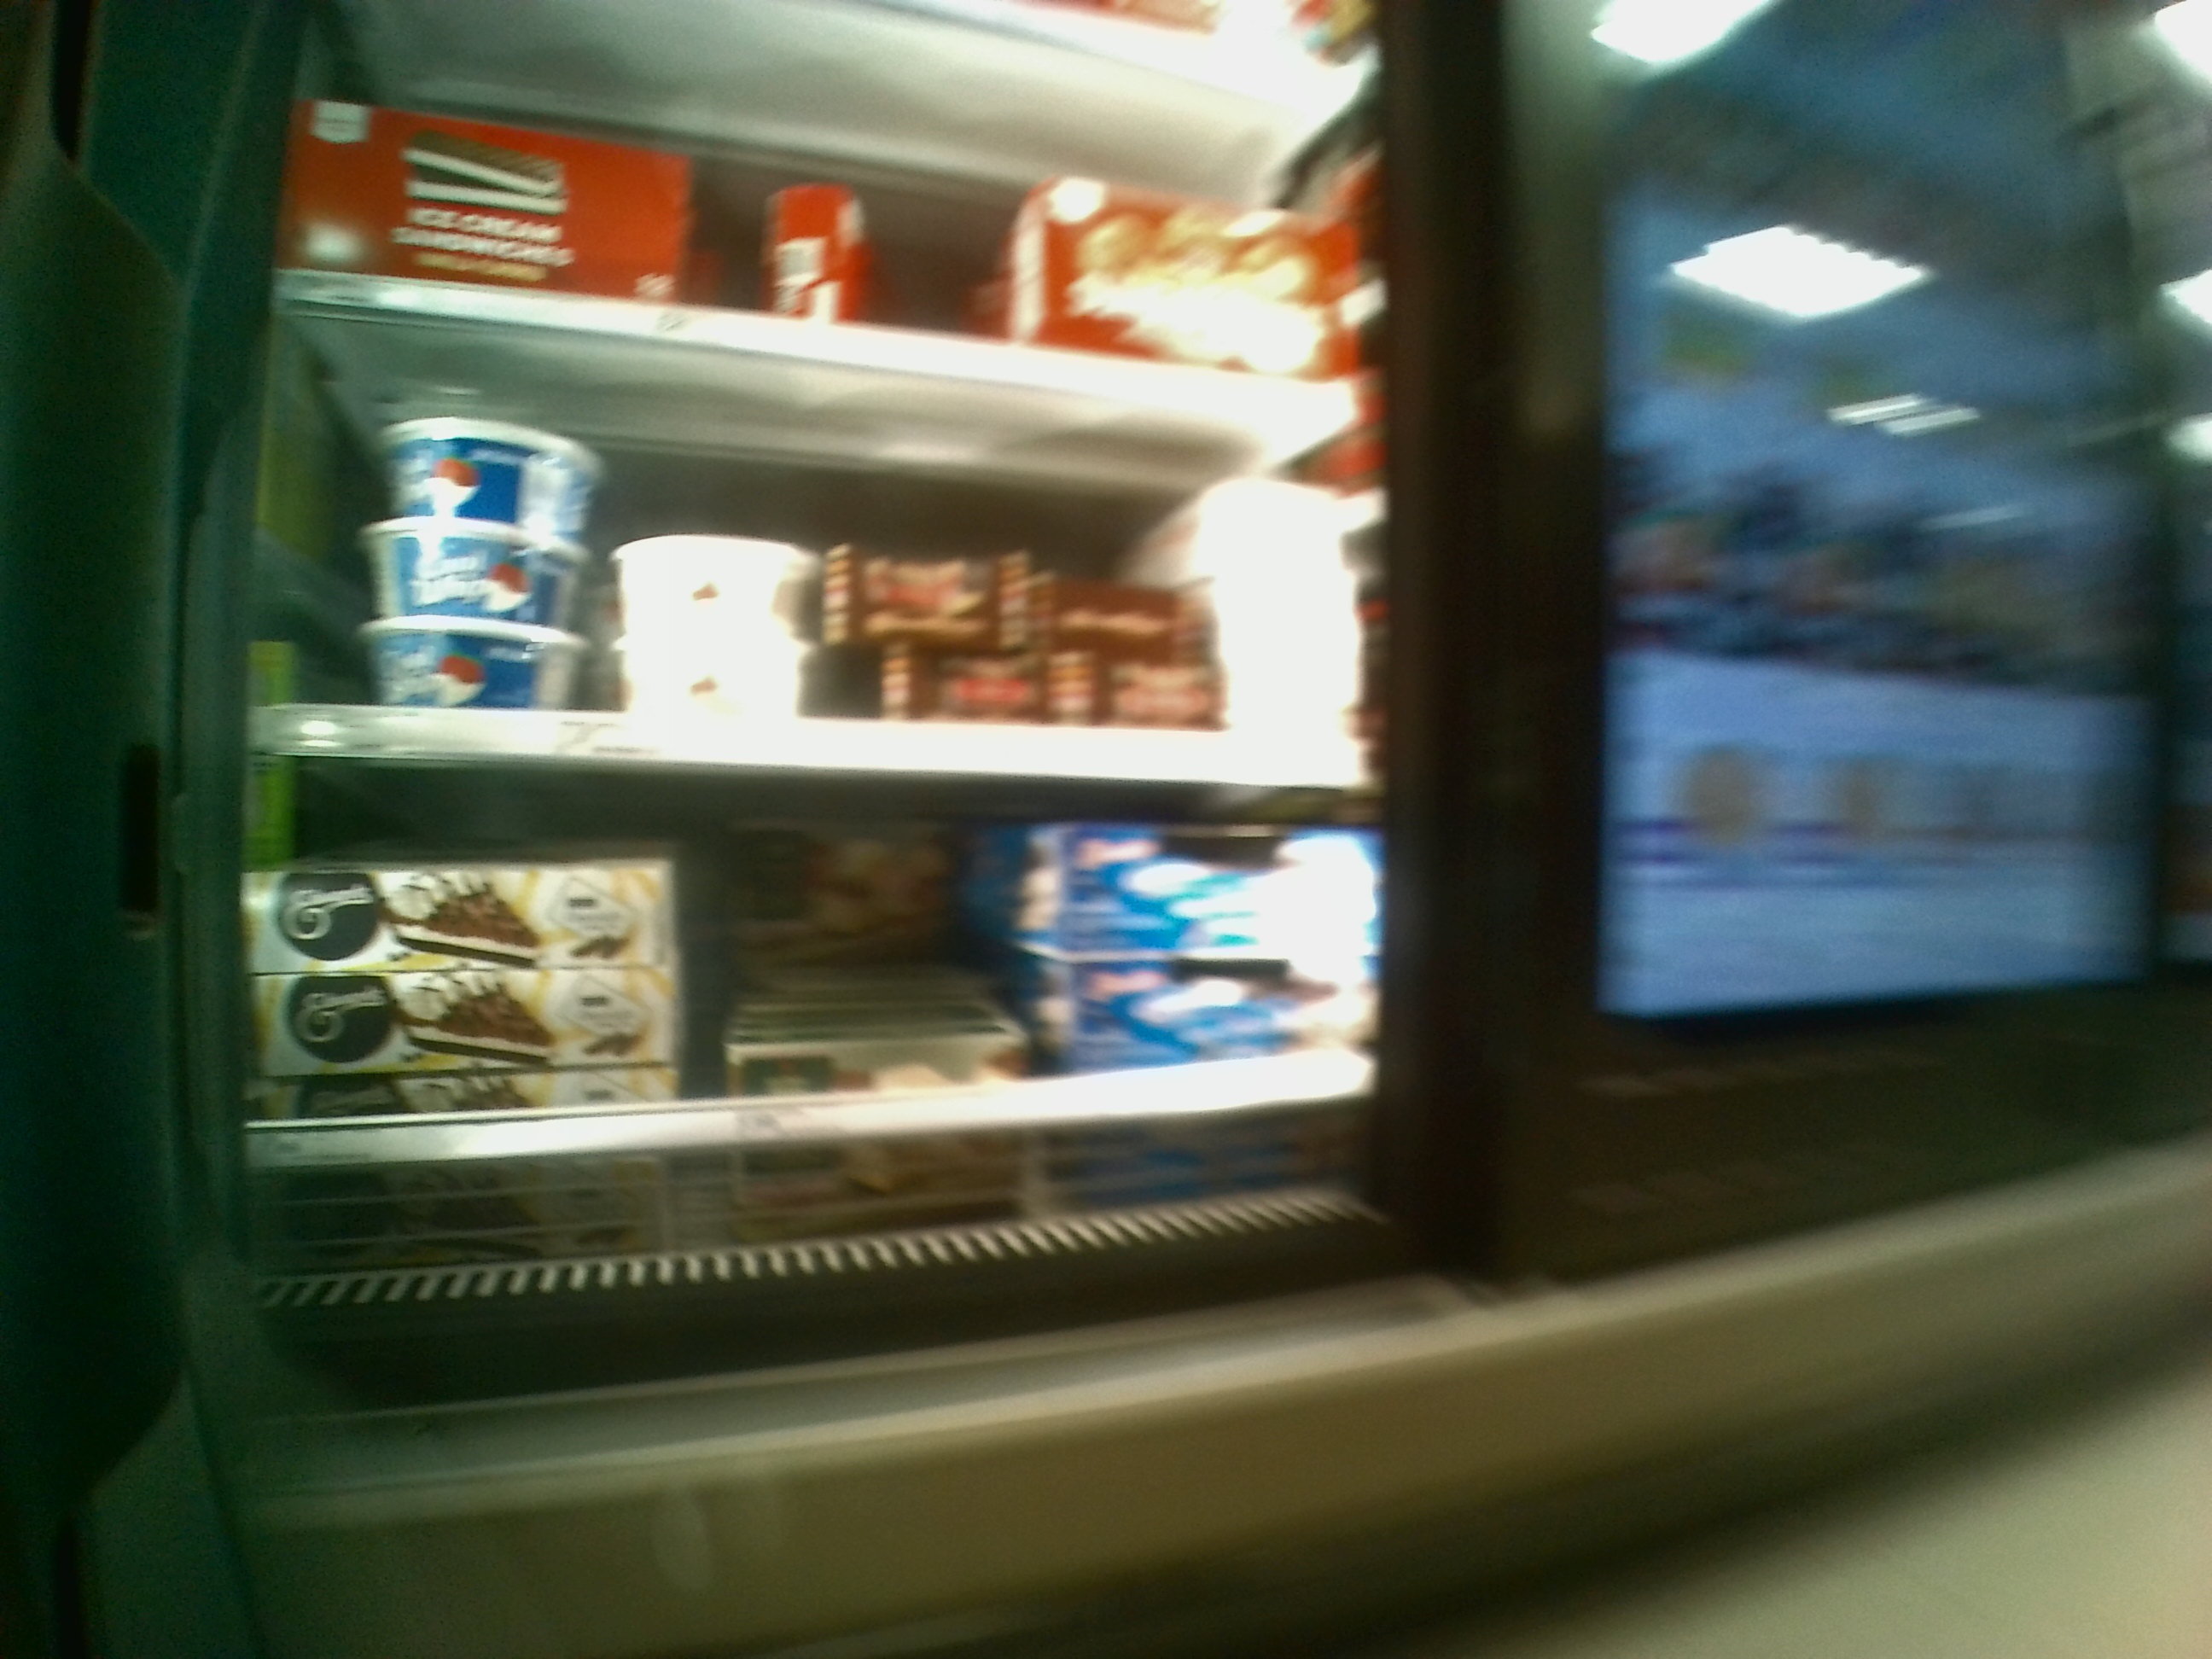frozen-food-shelf: (188, 769, 1423, 1180)
